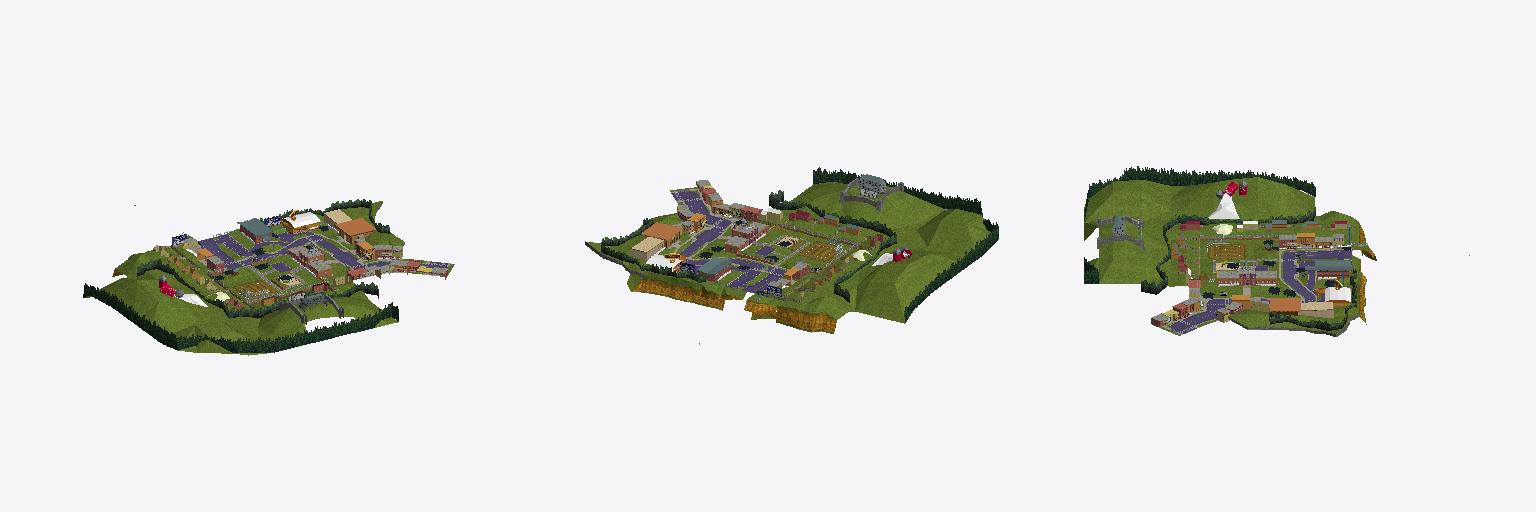
3 renders of one model, left to right at view 1: azimuth 30°, elevation 25°; view 2: azimuth 150°, elevation 25°; view 3: azimuth 270°, elevation 25°, orthographic.
Visible parts, largest first — view 1: z3_gens11Shape_051, z3_gens11Shape_065, z3_common_trackShape_004, z3_gens11Shape_064, z3_gens11Shape_043, z3_gens11Shape_050, z3_gens11Shape_031, z3_common_trackShape_013, z3_common_trackShape_001, z3_gens11Shape_035, z3_common_trackShape_007, z3_gens11Shape_030 (+1 smaller); view 2: z3_gens11Shape_051, z3_common_trackShape_004, z3_gens11Shape_065, z3_gens11Shape_064, z3_gens11Shape_050, z3_gens11Shape_055, z3_gens11Shape_056, z3_gens11Shape_043, z3_gens11Shape_031, z3_common_trackShape_013, z3_gens11Shape_035, z3_common_trackShape_009 (+7 smaller); view 3: z3_gens11Shape_051, z3_common_trackShape_004, z3_gens11Shape_065, z3_gens11Shape_064, z3_gens11Shape_050, z3_gens11Shape_043, z3_gens11Shape_030, z3_gens11Shape_031, z3_common_trackShape_009, z3_gens11Shape_035, z3_common_trackShape_013, z3_gens11Shape_039 (+3 smaller).
Part boxes in pixels (left/top/right/bottom): z3_gens11Shape_051: left=85, top=248, right=397, bottom=355; z3_gens11Shape_065: left=83, top=283, right=398, bottom=352; z3_common_trackShape_004: left=174, top=225, right=454, bottom=302; z3_gens11Shape_064: left=137, top=199, right=389, bottom=318; z3_gens11Shape_043: left=184, top=234, right=447, bottom=273; z3_gens11Shape_050: left=230, top=201, right=404, bottom=250; z3_gens11Shape_031: left=207, top=226, right=447, bottom=310; z3_common_trackShape_013: left=198, top=230, right=450, bottom=291; z3_common_trackShape_001: left=215, top=231, right=445, bottom=272; z3_gens11Shape_035: left=170, top=241, right=406, bottom=305; z3_common_trackShape_007: left=241, top=238, right=360, bottom=266; z3_gens11Shape_030: left=159, top=217, right=402, bottom=306; z3_gens11Shape_051: left=759, top=182, right=998, bottom=323; z3_common_trackShape_004: left=658, top=187, right=852, bottom=297; z3_gens11Shape_065: left=813, top=167, right=998, bottom=322; z3_gens11Shape_064: left=601, top=190, right=896, bottom=302; z3_gens11Shape_050: left=585, top=213, right=746, bottom=297; z3_gens11Shape_055: left=631, top=278, right=743, bottom=308; z3_gens11Shape_056: left=776, top=306, right=836, bottom=333; z3_gens11Shape_043: left=672, top=180, right=808, bottom=286; z3_gens11Shape_031: left=678, top=182, right=882, bottom=281; z3_common_trackShape_013: left=668, top=189, right=809, bottom=290; z3_gens11Shape_035: left=688, top=195, right=860, bottom=289; z3_common_trackShape_009: left=671, top=193, right=782, bottom=292; z3_gens11Shape_051: left=1084, top=177, right=1358, bottom=286; z3_common_trackShape_004: left=1159, top=238, right=1359, bottom=335; z3_gens11Shape_065: left=1084, top=166, right=1315, bottom=283; z3_gens11Shape_064: left=1141, top=207, right=1356, bottom=330; z3_gens11Shape_050: left=1228, top=255, right=1366, bottom=333; z3_gens11Shape_043: left=1152, top=234, right=1343, bottom=320; z3_gens11Shape_030: left=1188, top=180, right=1353, bottom=315; z3_gens11Shape_031: left=1151, top=224, right=1348, bottom=326; z3_common_trackShape_009: left=1183, top=250, right=1351, bottom=333; z3_gens11Shape_035: left=1172, top=224, right=1332, bottom=320; z3_common_trackShape_013: left=1161, top=245, right=1349, bottom=334; z3_gens11Shape_039: left=1161, top=224, right=1346, bottom=322.
Bounding box in the file's own units: 397 × 63.12 × 433.
77 materials, 68 textured.